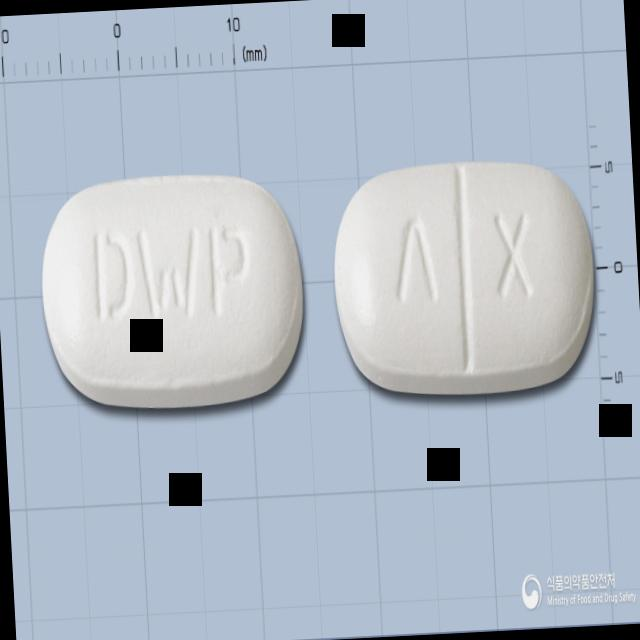Amoxicle-7-1-: (34, 162, 313, 424), (328, 154, 601, 406)
